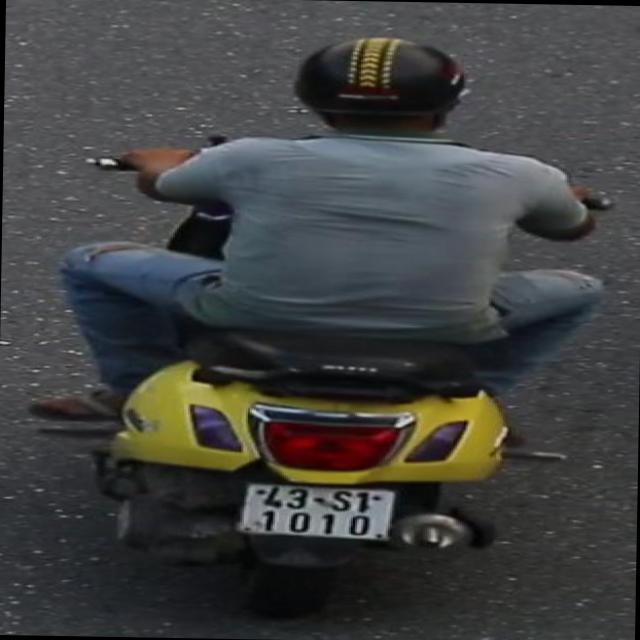LP: (230, 474, 404, 548)
helmet: (276, 28, 478, 150)
